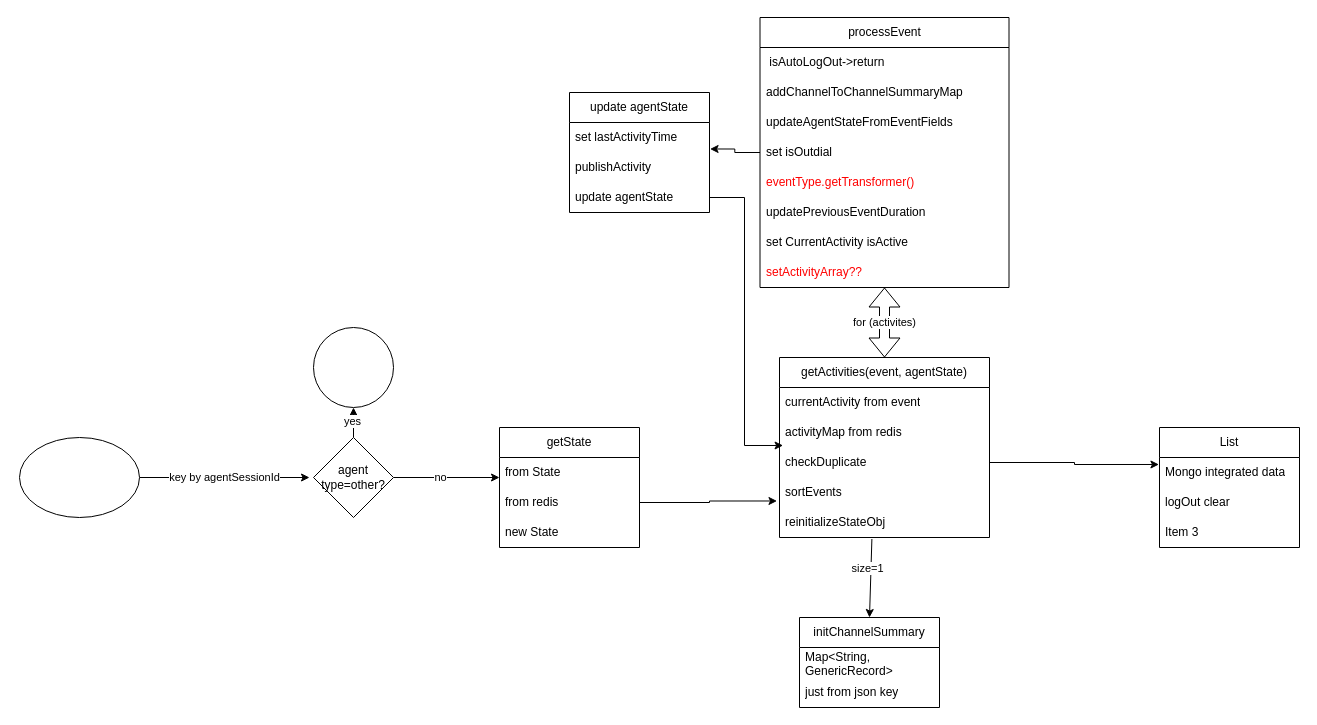
Image size: 1317x725. Some labels were removed from this diagram. The shapes that lost their labels are listed below. From the top down, each one's centre as x and y in pixels, then its label:
At pixel 353 367: "return".
At pixel 79 477: "agentEventDataStream".
